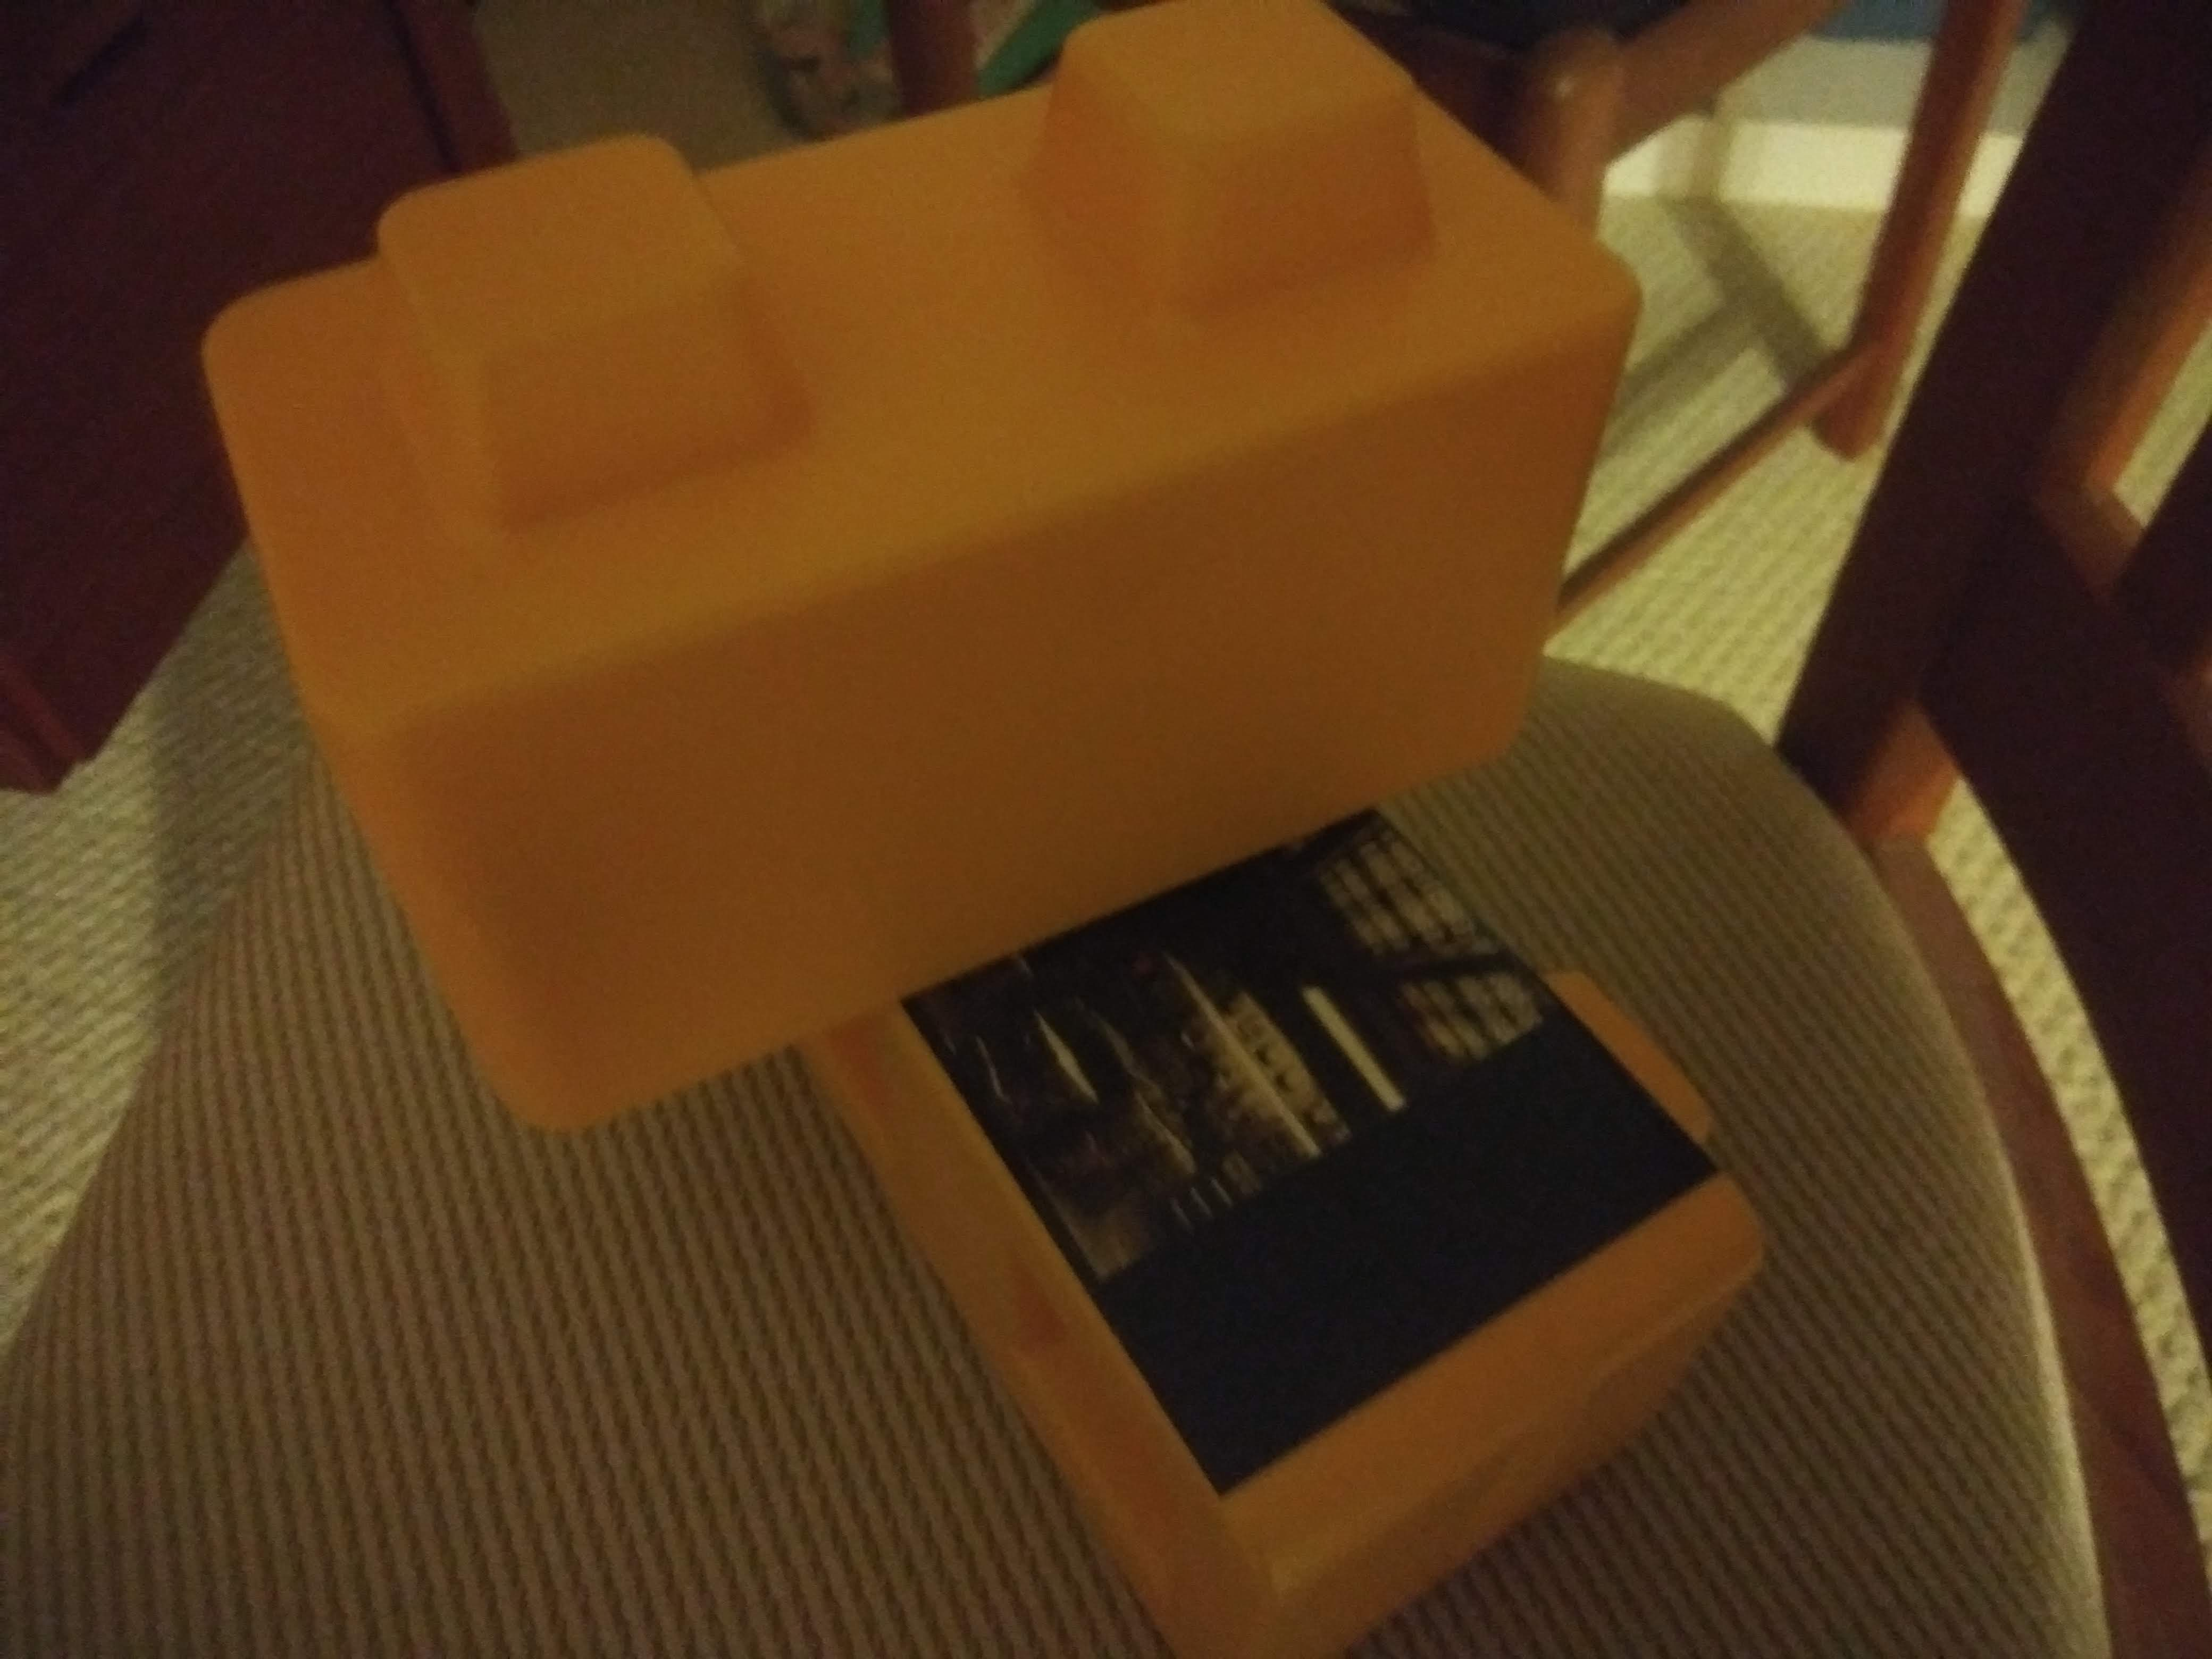skystone: (935, 892, 1724, 1499)
stone: (273, 110, 1575, 840)
